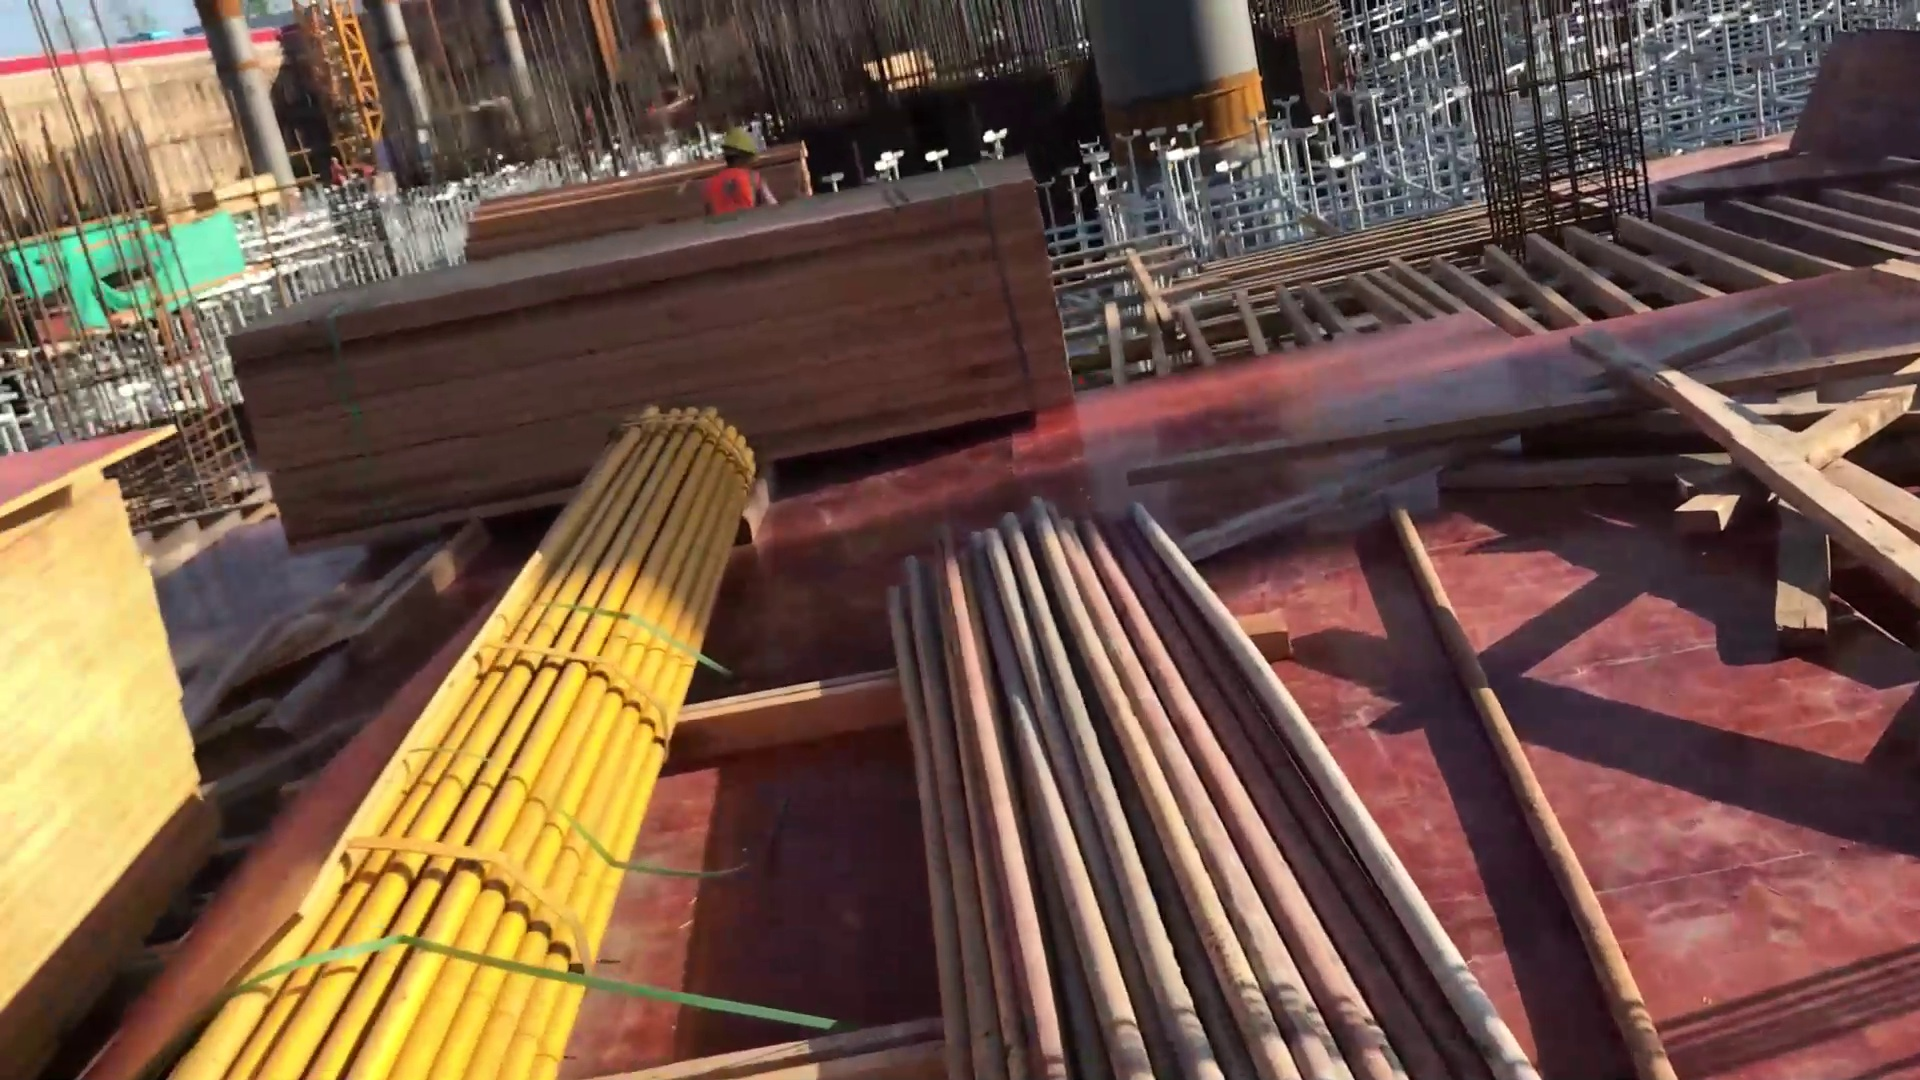board: (7, 401, 190, 1011)
helmet: (719, 117, 761, 160)
rebar: (862, 480, 1567, 1080)
vest: (688, 158, 783, 218)
wood: (212, 187, 1125, 522)
